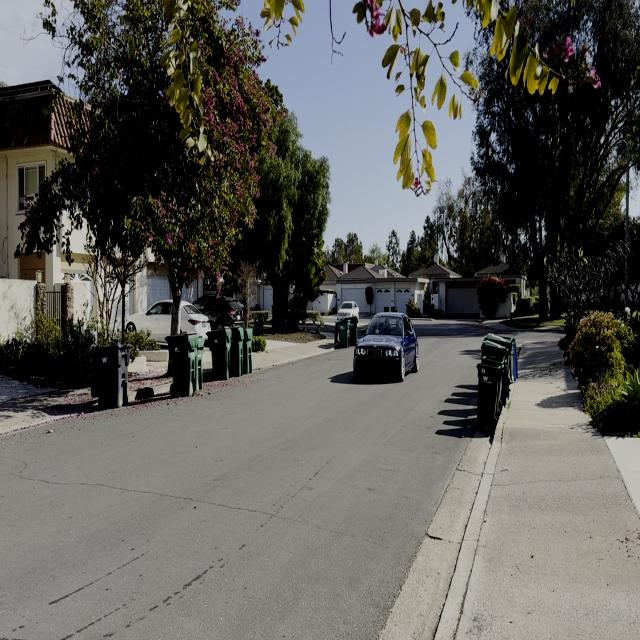Carbeetle: (348, 280, 423, 398)
